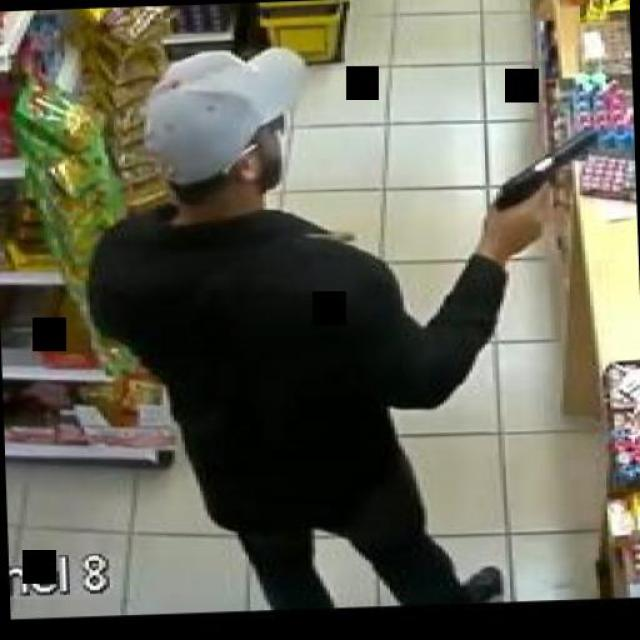gun: (480, 120, 611, 239)
